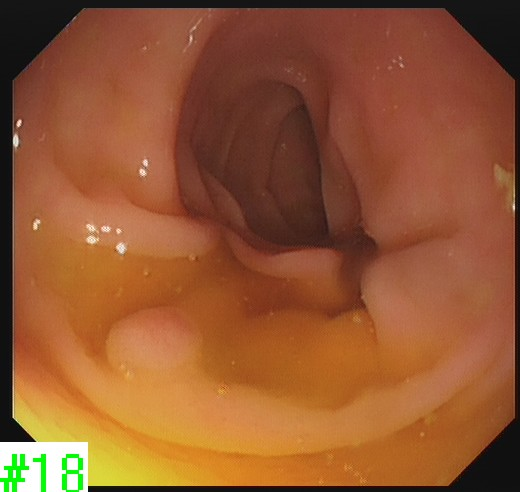adenoma: (103, 304, 206, 382)
